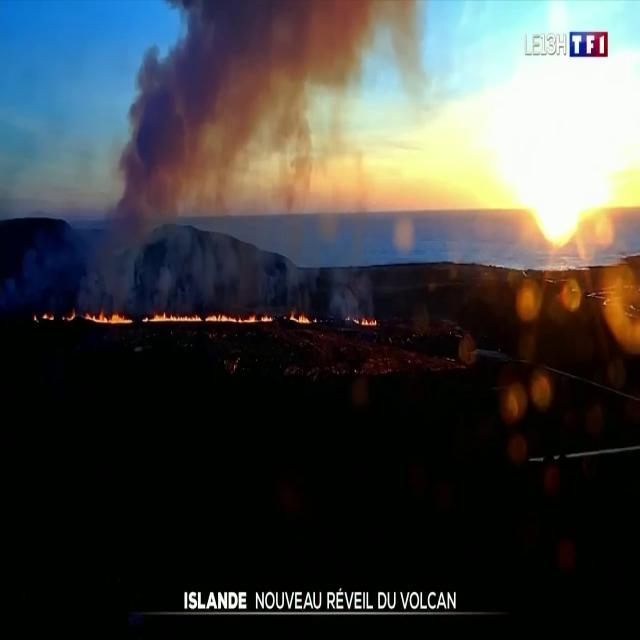Fire: (31, 302, 382, 332)
Smoke: (108, 0, 438, 222)
